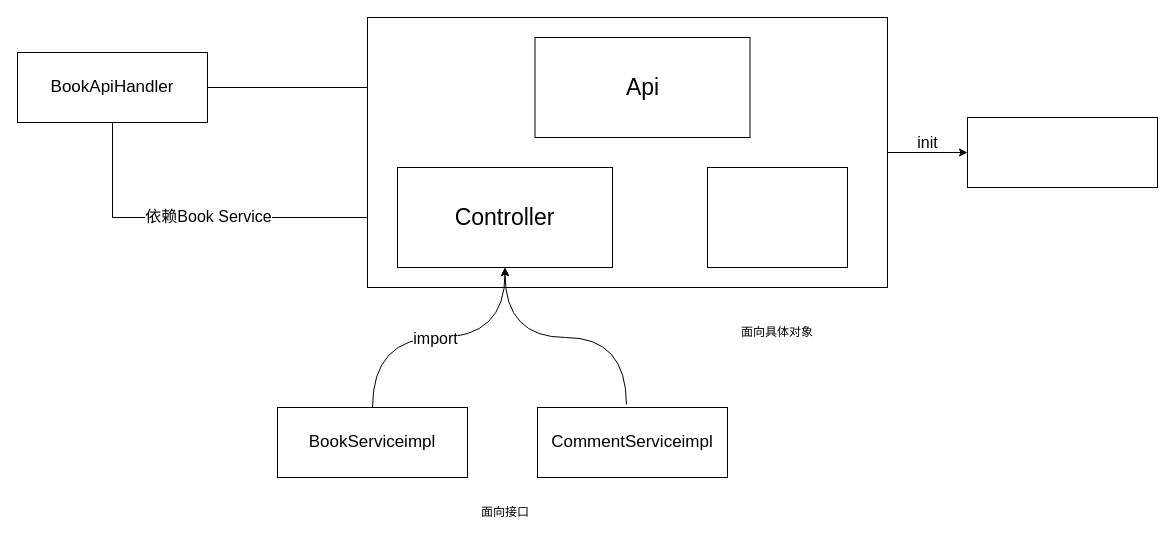
Image size: 1175x545. Some labels were removed from this diagram. The shapes that lost their labels are listed below. From the top down, each one's centre as x and y in pixels, then its label:
At (1062,152): "application.toml".
At (777,217): "config".
